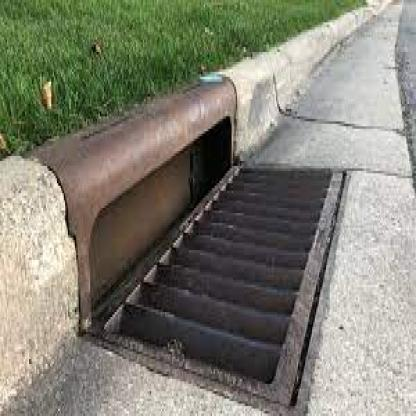open drainage-not overflowing-: (103, 165, 347, 404)
